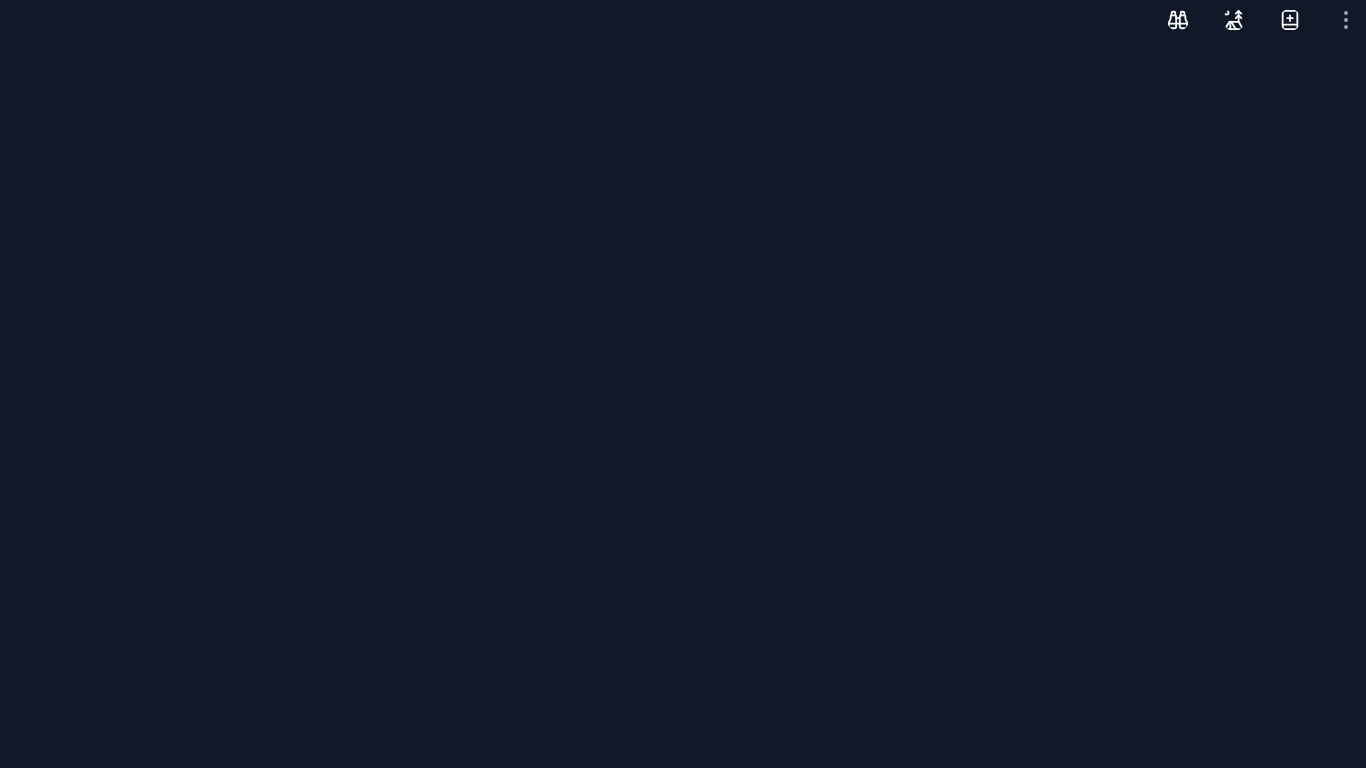
Scenario: components/character/character-actions-menu › should open the character’s settings
Click the icon with class "lucide-ellipsis-vertical" at (1346, 20), box 1326,0 -> 1365,40
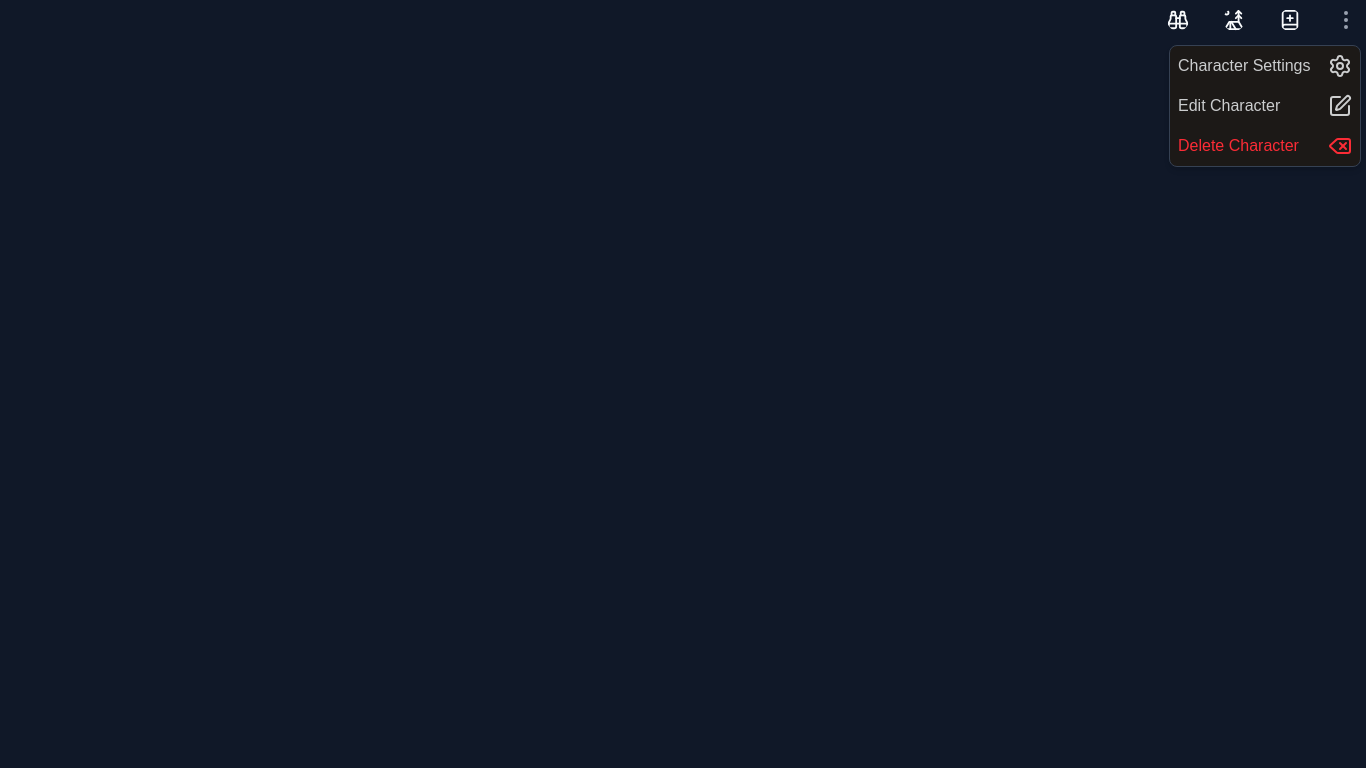
Click the button "Character Settings" at (1265, 66), box 1170,46 -> 1360,86
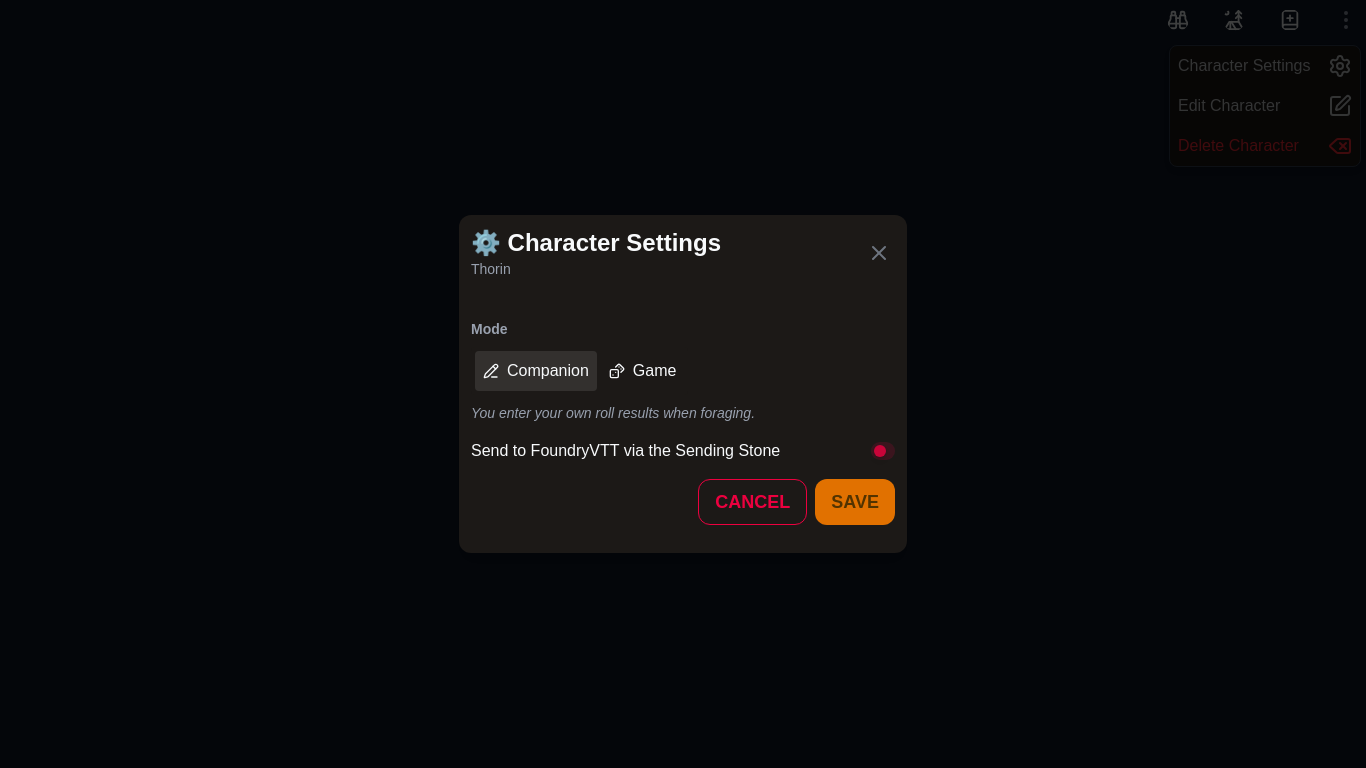
Result: the text "⚙️ Character Settings" is shown at 471,227 -> 721,259
Result: the button "Companion" is shown at 475,351 -> 597,391
Result: the checkbox labelled "Send to FoundryVTT via the Sending Stone" is not checked at 471,439 -> 895,463
